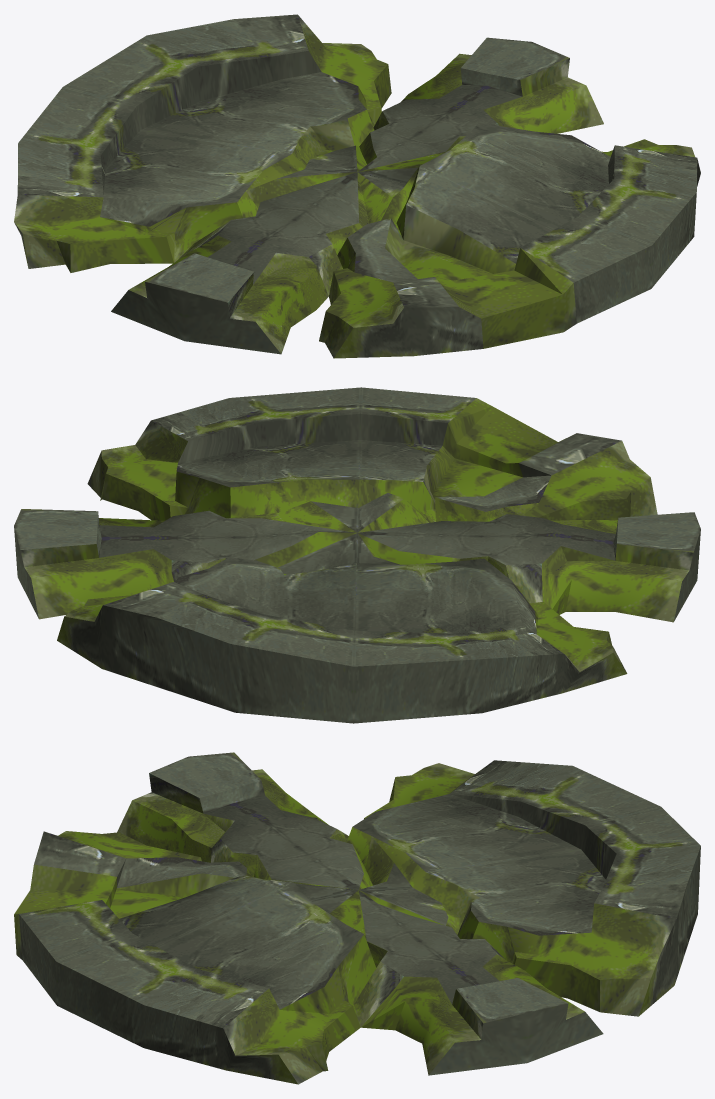
Rendered from 5004_Item_shitou_1.FBX.
The picture shows the model from 3 angles, top to bottom: view 1: azimuth 30°, elevation 25°; view 2: azimuth 150°, elevation 25°; view 3: azimuth 270°, elevation 25°; orthographic projection.
Parts seen in each view (by area): view 1: 5004_Item_shitou_1; view 2: 5004_Item_shitou_1; view 3: 5004_Item_shitou_1.
Part boxes in pixels (box(x1,y1,x2,y2)): 5004_Item_shitou_1: box(14, 14, 700, 358); 5004_Item_shitou_1: box(14, 387, 700, 723); 5004_Item_shitou_1: box(14, 752, 700, 1084).
Size of the model in its own units: 598 by 69.92 by 586.
